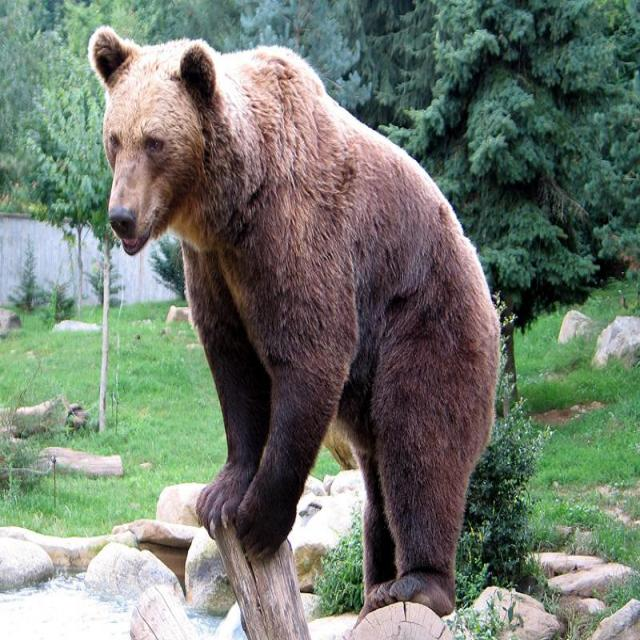Bear: (86, 27, 501, 640)
